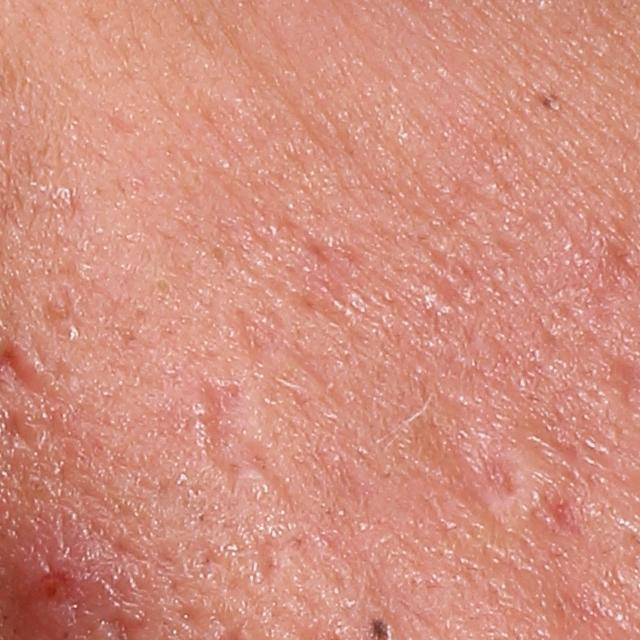atrophic_scar: (184, 384, 306, 524), (278, 213, 343, 275), (40, 290, 92, 341), (532, 492, 586, 539), (3, 404, 48, 458), (471, 448, 517, 493)
nevus: (540, 87, 561, 115)
papule: (27, 559, 67, 611)
